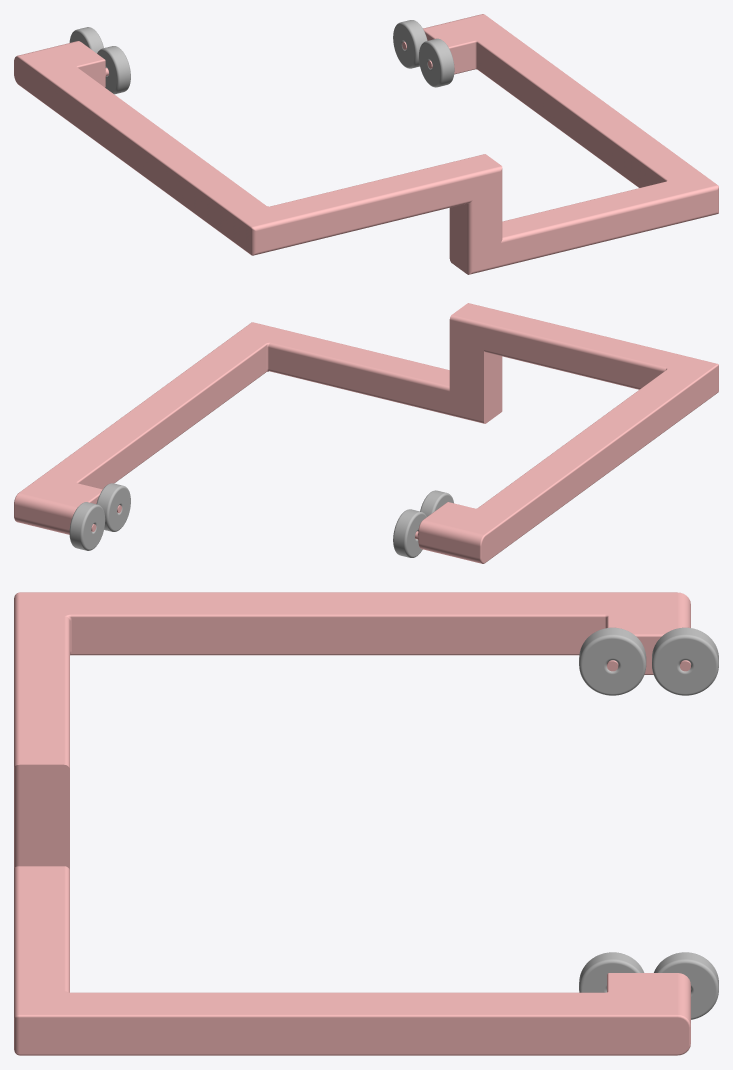
File: hood-24-007-concept.obj
The picture shows the model from 3 angles, top to bottom: view 1: azimuth 30°, elevation 25°; view 2: azimuth 150°, elevation 25°; view 3: azimuth 270°, elevation 25°; orthographic projection. The views are drawn at different scales.
Visible parts, largest first — view 1: Root|hood-24-007-concept_(Default)|hood-24-007-concept-1|hood-24, Root|hood-24-007-concept_(Default)|pinionWheel-24-007-concept-2|, Root|hood-24-007-concept_(Default)|pinionWheel-24-007-concept-1|, Root|hood-24-007-concept_(Default)|pinionWheel-24-007-concept-3|, Root|hood-24-007-concept_(Default)|pinionWheel-24-007-concept-4|; view 2: Root|hood-24-007-concept_(Default)|hood-24-007-concept-1|hood-24, Root|hood-24-007-concept_(Default)|pinionWheel-24-007-concept-1|, Root|hood-24-007-concept_(Default)|pinionWheel-24-007-concept-2|, Root|hood-24-007-concept_(Default)|pinionWheel-24-007-concept-4|, Root|hood-24-007-concept_(Default)|pinionWheel-24-007-concept-3|; view 3: Root|hood-24-007-concept_(Default)|hood-24-007-concept-1|hood-24, Root|hood-24-007-concept_(Default)|pinionWheel-24-007-concept-3|, Root|hood-24-007-concept_(Default)|pinionWheel-24-007-concept-4|, Root|hood-24-007-concept_(Default)|pinionWheel-24-007-concept-1|, Root|hood-24-007-concept_(Default)|pinionWheel-24-007-concept-2|.
Part boxes in pixels (bbox=[...]): Root|hood-24-007-concept_(Default)|hood-24-007-concept-1|hood-24: bbox=[14, 14, 718, 274]; Root|hood-24-007-concept_(Default)|pinionWheel-24-007-concept-2|: bbox=[419, 38, 454, 87]; Root|hood-24-007-concept_(Default)|pinionWheel-24-007-concept-1|: bbox=[393, 20, 427, 68]; Root|hood-24-007-concept_(Default)|pinionWheel-24-007-concept-3|: bbox=[97, 46, 130, 94]; Root|hood-24-007-concept_(Default)|pinionWheel-24-007-concept-4|: bbox=[69, 27, 103, 53]; Root|hood-24-007-concept_(Default)|hood-24-007-concept-1|hood-24: bbox=[14, 303, 718, 563]; Root|hood-24-007-concept_(Default)|pinionWheel-24-007-concept-1|: bbox=[69, 502, 105, 550]; Root|hood-24-007-concept_(Default)|pinionWheel-24-007-concept-2|: bbox=[96, 483, 130, 531]; Root|hood-24-007-concept_(Default)|pinionWheel-24-007-concept-4|: bbox=[393, 509, 426, 557]; Root|hood-24-007-concept_(Default)|pinionWheel-24-007-concept-3|: bbox=[420, 490, 453, 516]; Root|hood-24-007-concept_(Default)|hood-24-007-concept-1|hood-24: bbox=[14, 592, 690, 1055]; Root|hood-24-007-concept_(Default)|pinionWheel-24-007-concept-3|: bbox=[579, 627, 646, 695]; Root|hood-24-007-concept_(Default)|pinionWheel-24-007-concept-4|: bbox=[652, 627, 718, 695]; Root|hood-24-007-concept_(Default)|pinionWheel-24-007-concept-1|: bbox=[654, 952, 718, 1019]; Root|hood-24-007-concept_(Default)|pinionWheel-24-007-concept-2|: bbox=[579, 952, 644, 992].
Bounding box in the file's own units: 0.682 × 0.16 × 0.63.
